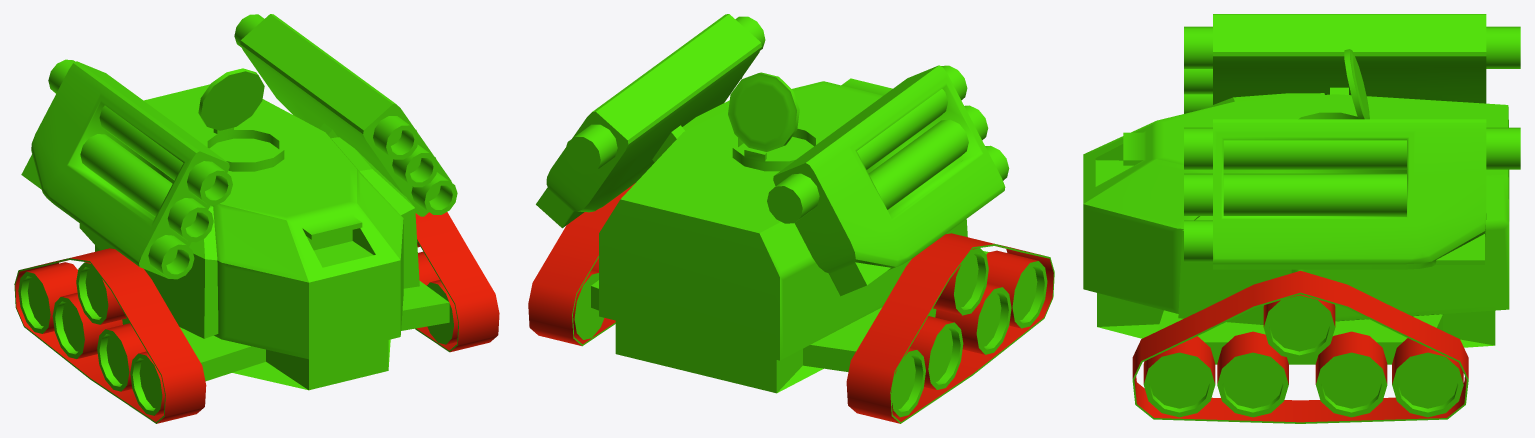
Rendered from tank.fbx.
3 views of the same model, side by side, from view 1: azimuth 30°, elevation 25°; view 2: azimuth 150°, elevation 25°; view 3: azimuth 270°, elevation 25° (orthographic). The views are drawn at different scales.
Parts seen in each view (by area): view 1: Cube, Cube.004, Plane, Cube.001, Plane.001, Cylinder.002; view 2: Cube, Cube.004, Plane, Cube.001, Plane.001, Cylinder.002; view 3: Cube.001, Cube, Plane.001, Cube.004, Cylinder.002.
Boxes of the visible parts, left/top/right/bottom form: Cube: left=79, top=84, right=449, bottom=390; Cube.004: left=21, top=59, right=232, bottom=279; Plane: left=14, top=248, right=206, bottom=423; Cube.001: left=234, top=14, right=457, bottom=216; Plane.001: left=415, top=212, right=499, bottom=352; Cylinder.002: left=198, top=68, right=264, bottom=130; Cube: left=591, top=78, right=989, bottom=393; Cube.004: left=767, top=65, right=1009, bottom=296; Plane: left=846, top=233, right=1054, bottom=423; Cube.001: left=536, top=14, right=765, bottom=228; Plane.001: left=528, top=183, right=635, bottom=346; Cylinder.002: left=728, top=72, right=799, bottom=151; Cube.001: left=1184, top=119, right=1520, bottom=269; Cube: left=1083, top=87, right=1509, bottom=364; Plane.001: left=1132, top=270, right=1468, bottom=423; Cube.004: left=1184, top=14, right=1520, bottom=113; Cylinder.002: left=1344, top=49, right=1369, bottom=119.
Size of the model in its own units: 910 by 658 by 931.
